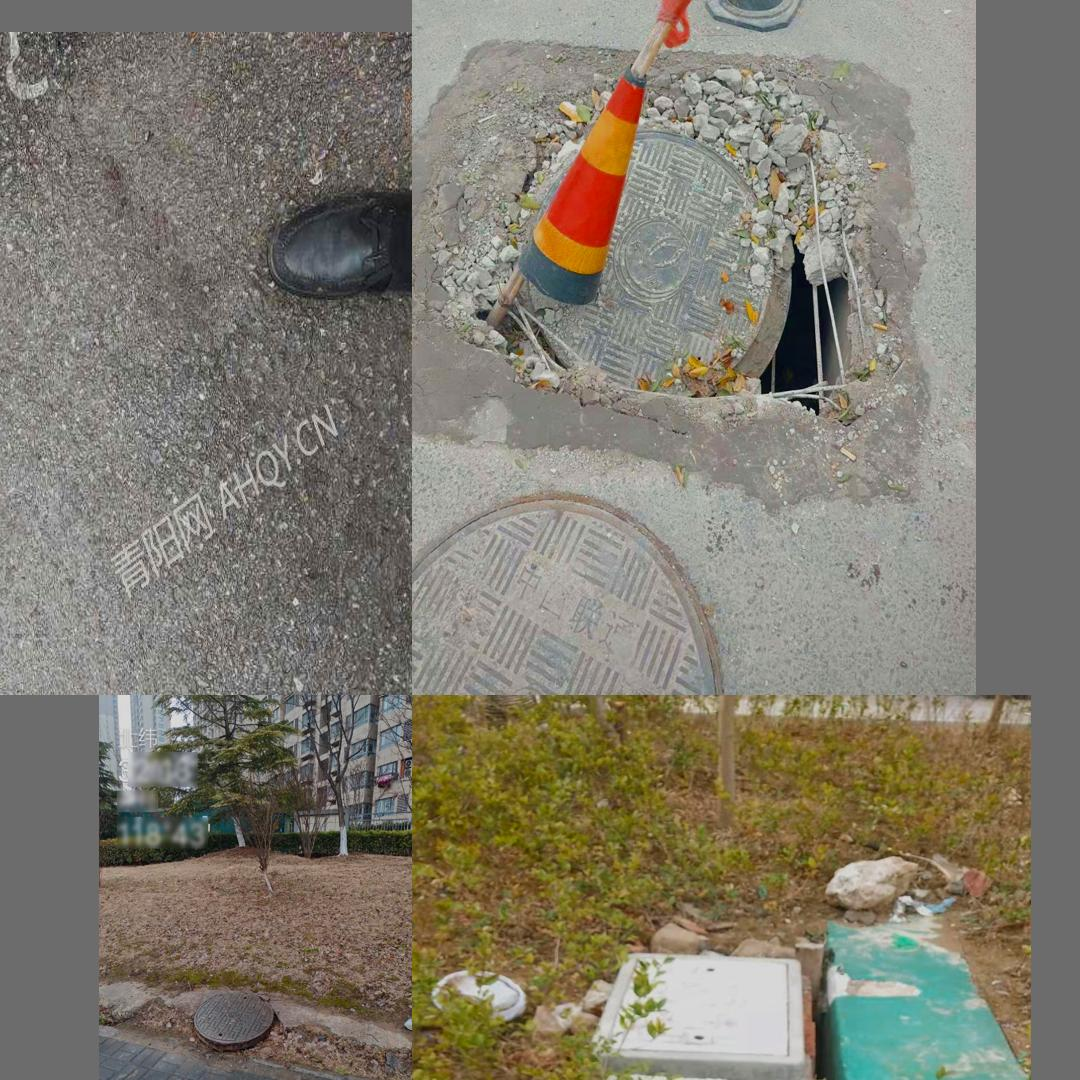circle: (496, 122, 856, 400), (575, 941, 848, 1080), (191, 989, 277, 1050)
